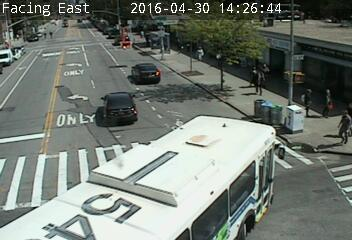neg: (173, 144, 192, 169), (139, 146, 156, 169), (171, 112, 186, 132), (122, 81, 131, 94), (126, 103, 135, 115), (128, 63, 135, 73), (119, 39, 125, 46)
pos: (330, 109, 351, 146), (293, 85, 316, 116), (318, 88, 341, 119), (192, 44, 209, 66)
